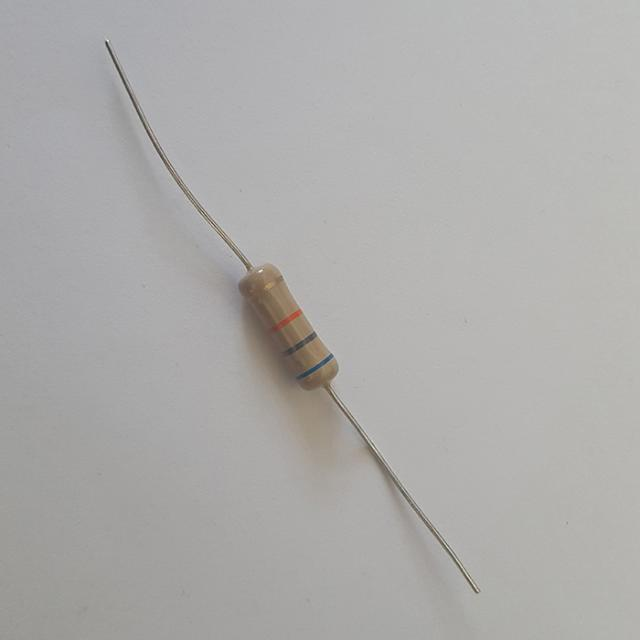blue: (295, 354, 333, 379)
gold: (249, 275, 282, 298)
grey: (284, 332, 316, 354)
orange: (273, 308, 302, 328)
resistor: (219, 248, 356, 397)
